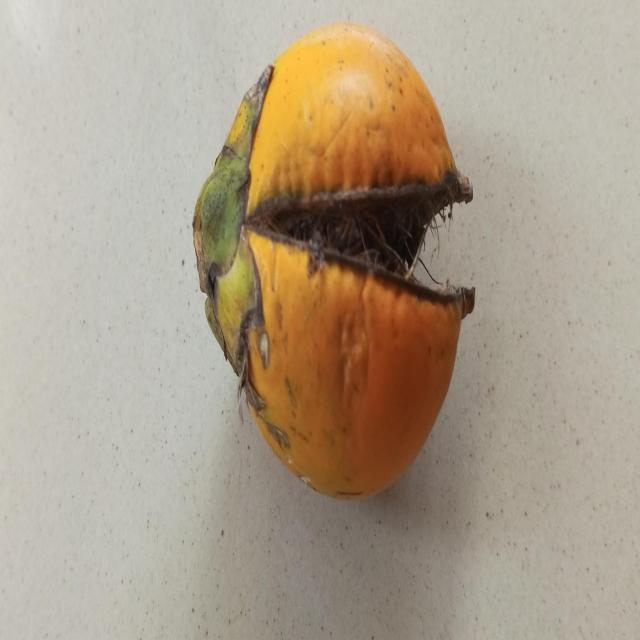damaged: (192, 24, 476, 501)
